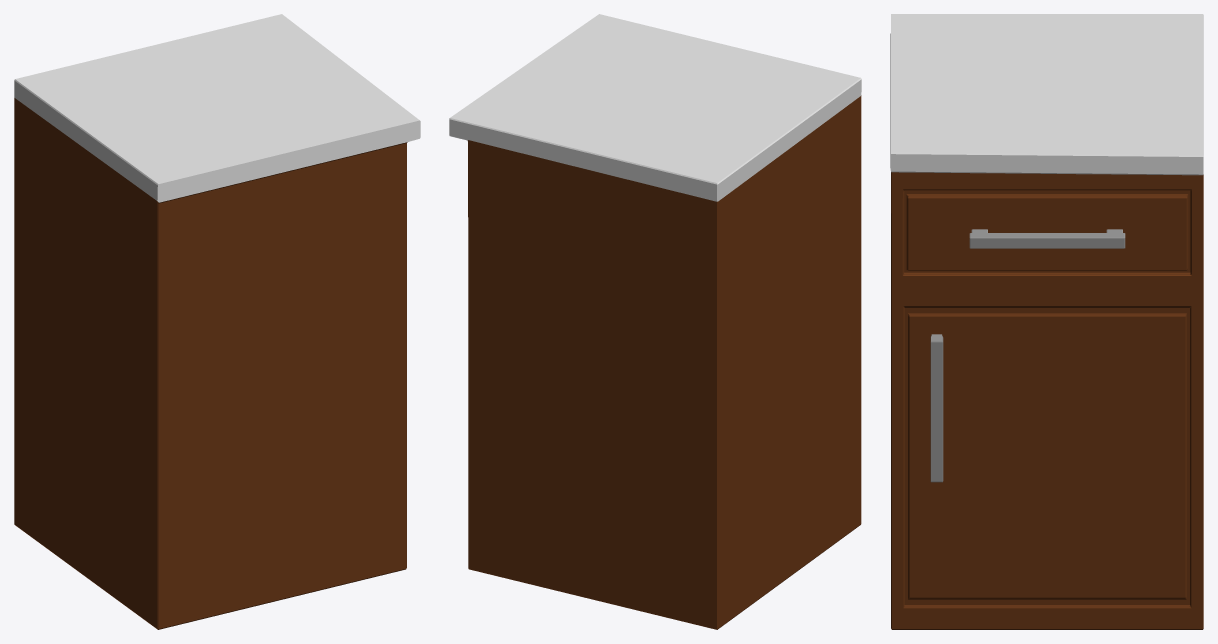
File: Cabinet.fbx
The picture shows the model from 3 angles, left to right: view 1: azimuth 30°, elevation 25°; view 2: azimuth 150°, elevation 25°; view 3: azimuth 270°, elevation 25°; orthographic projection. The views are drawn at different scales.
Visible parts, largest first — view 1: Fridge.006; view 2: Fridge.006; view 3: Fridge.006.
Boxes of the visible parts, bbox=[...] form: Fridge.006: bbox=[14, 14, 420, 629]; Fridge.006: bbox=[449, 14, 861, 629]; Fridge.006: bbox=[890, 14, 1203, 629].
Bounding box in the file's own units: 151 × 242 × 140.
